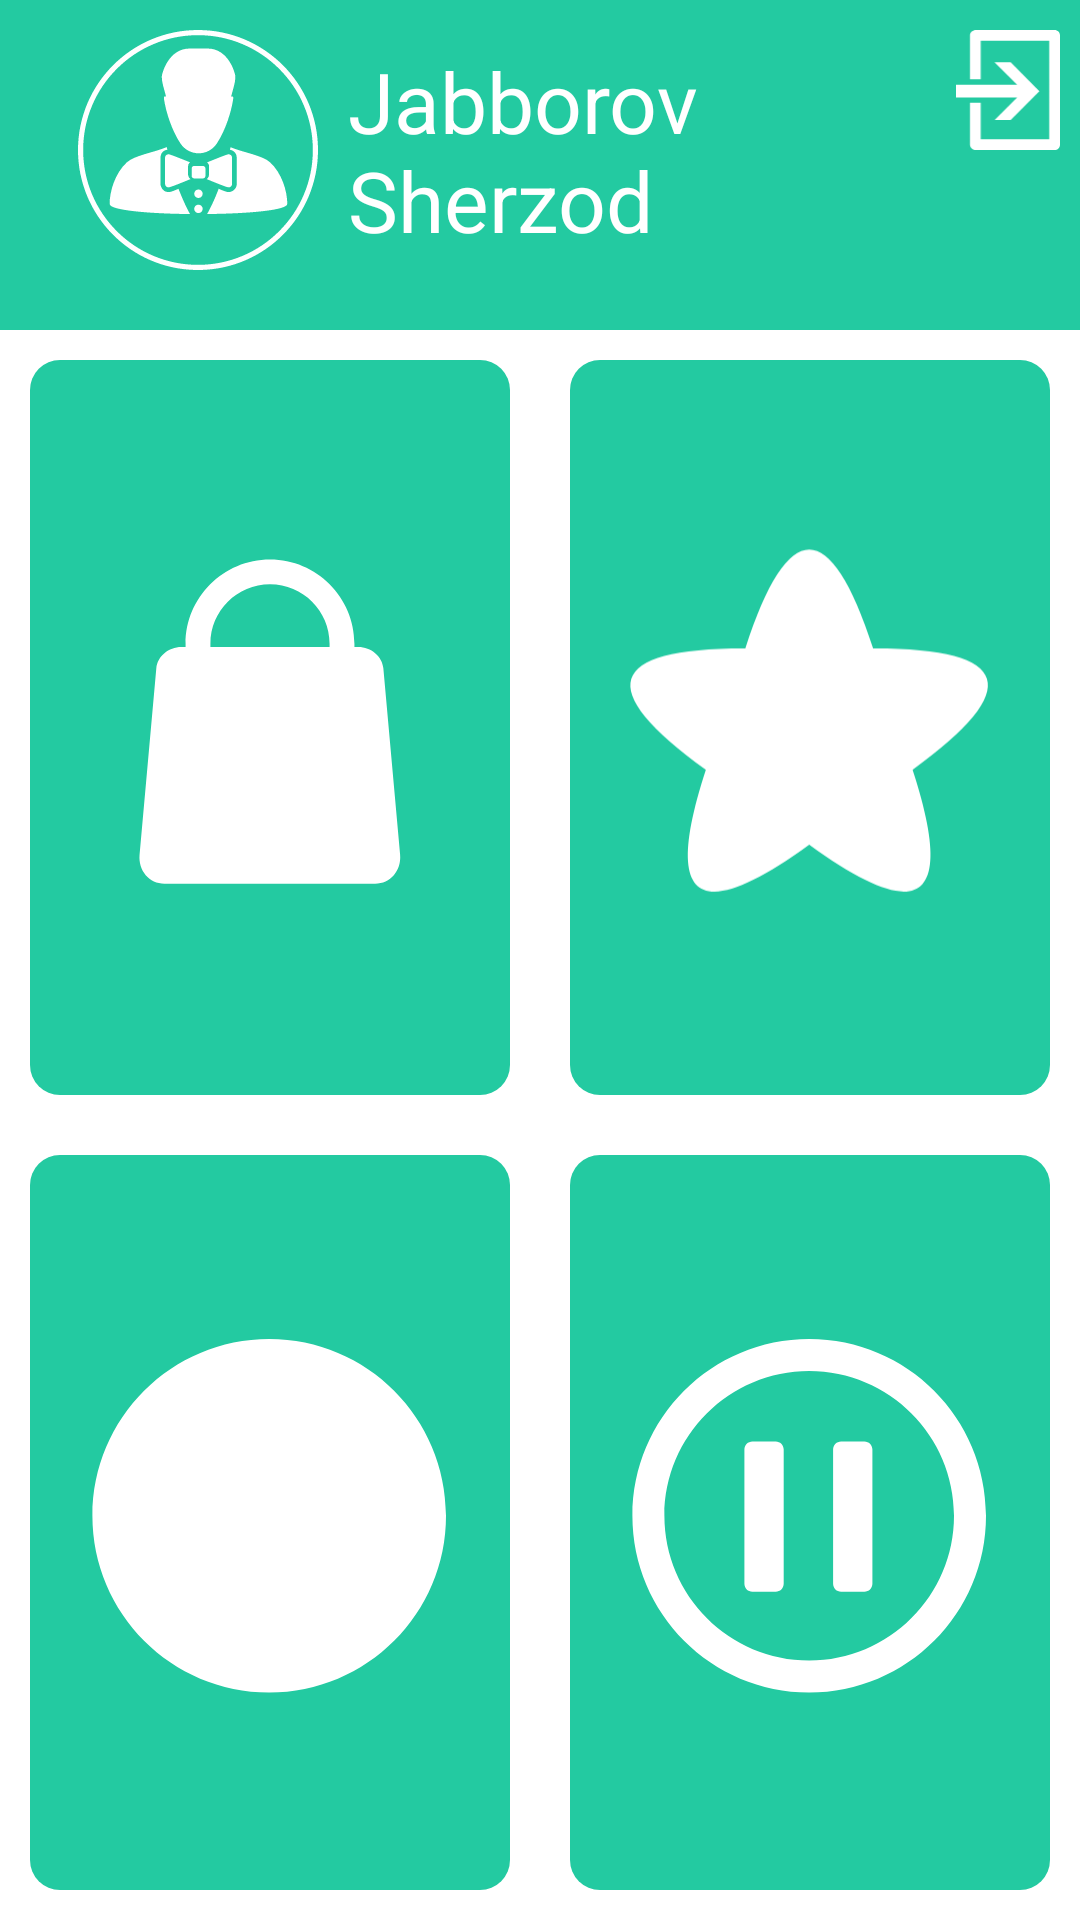

Named icons in this screenshot (1080 x 1920) and their bounding boxes, bbox(x1, y1, x2, y2):
exit: bbox(956, 30, 1060, 150)
profile: bbox(78, 30, 318, 270)
